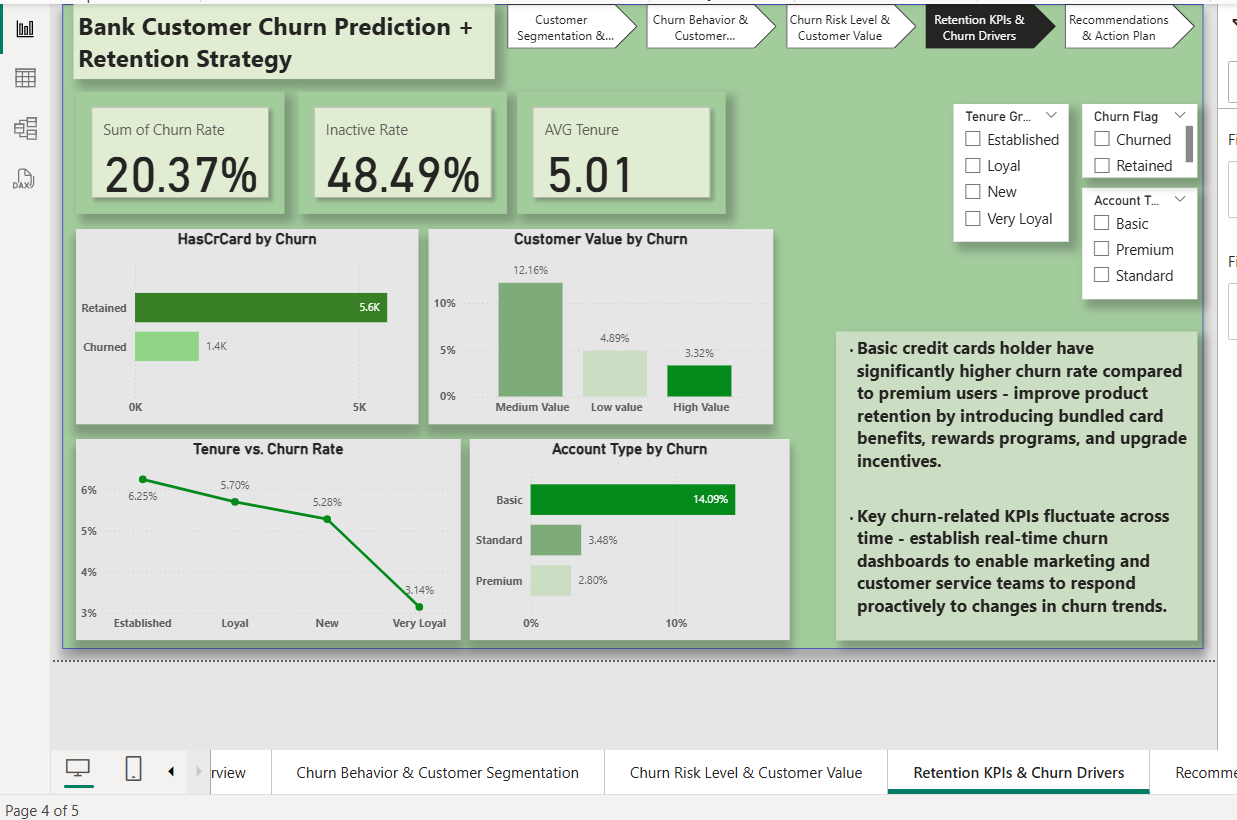

The dashboard page shown, as its layout file describes it:
{"tool":"powerbi","page":{"name":"Retention KPIs & Churn Drivers","canvas":[1280,720],"ordinal":3},"visuals":[{"type":"shape","box":[12.3,0,1252.8,708.1],"z":0},{"type":"textbox","box":[24.7,0,462.4,82.3],"z":1000},{"type":"cardVisual","fields":{"Data":["Sum(Cleaned Dataset.Churn Rate)"]},"box":[27.4,96.1,229.2,134.5],"z":2000},{"type":"cardVisual","fields":{"Data":["Cleaned Dataset.Inactive Rate"]},"box":[271.7,96.1,229.2,134.5],"z":3000},{"type":"cardVisual","fields":{"Data":["Cleaned Dataset.AVG Tenure"]},"box":[511.8,96.1,229.2,134.5],"z":4000},{"type":"columnChart","title":"Customer Value by Churn","fields":{"Category":["Cleaned Dataset.Customer Value"],"Y":["Sum(Cleaned Dataset.Churn Rate)"]},"box":[414.4,247,378.7,214.1],"z":5000},{"type":"barChart","title":"HasCrCard by Churn","fields":{"Y":["Sum(Cleaned Dataset.HasCrCard)"],"Category":["Cleaned Dataset.Churn Flag"]},"box":[27.4,247,376,214.1],"z":6000},{"type":"lineChart","title":"Tenure vs. Churn Rate","fields":{"Category":["Cleaned Dataset.Tenure Group"],"Y":["Sum(Cleaned Dataset.Churn Rate)"]},"box":[27.4,477.5,422.6,220.9],"z":7000},{"type":"slicer","fields":{"Values":["Cleaned Dataset.Tenure Group"]},"box":[990.7,109.8,126.2,150.9],"z":8000},{"type":"slicer","fields":{"Values":["Cleaned Dataset.Account Type"]},"box":[1132.1,201.7,126.2,122.1],"z":9000},{"type":"slicer","fields":{"Values":["Cleaned Dataset.Churn Flag"]},"box":[1132.1,109.8,126.2,81],"z":10000},{"type":"pageNavigator","box":[500.9,0,757.5,49.4],"z":11000},{"type":"barChart","title":"Account Type by Churn","fields":{"Category":["Cleaned Dataset.Account Type"],"Y":["Sum(Cleaned Dataset.Churn Rate)"]},"box":[459.7,477.5,351.3,220.9],"z":12000},{"type":"textbox","box":[861.8,359.5,396.6,338.9],"z":13000}]}

Visuals, with their boxes on the page's 1280x720 design canvas (x1, y1, x2, y2). These are canvas units, not pixel positions in the 1237x820 screenshot, which may show the page scaled, cropped or inside an application window:
shape: rect(12, 0, 1265, 708)
textbox: rect(25, 0, 487, 82)
cardVisual - Sum(Cleaned Dataset.Churn Rate): rect(27, 96, 257, 231)
cardVisual - Cleaned Dataset.Inactive Rate: rect(272, 96, 501, 231)
cardVisual - Cleaned Dataset.AVG Tenure: rect(512, 96, 741, 231)
"Customer Value by Churn" columnChart: rect(414, 247, 793, 461)
"HasCrCard by Churn" barChart: rect(27, 247, 403, 461)
"Tenure vs. Churn Rate" lineChart: rect(27, 478, 450, 698)
slicer - Cleaned Dataset.Tenure Group: rect(991, 110, 1117, 261)
slicer - Cleaned Dataset.Account Type: rect(1132, 202, 1258, 324)
slicer - Cleaned Dataset.Churn Flag: rect(1132, 110, 1258, 191)
pageNavigator: rect(501, 0, 1258, 49)
"Account Type by Churn" barChart: rect(460, 478, 811, 698)
textbox: rect(862, 360, 1258, 698)
